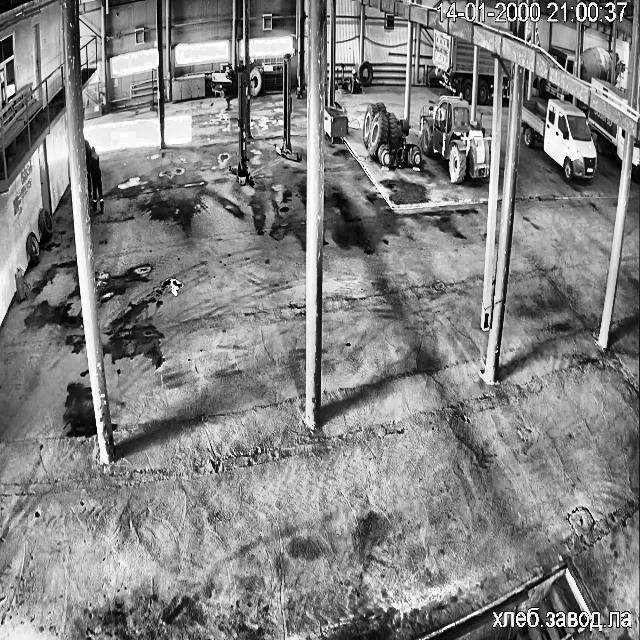class4: (90, 148, 103, 212), (84, 140, 92, 195)
class6: (420, 96, 489, 181), (363, 102, 420, 165)
class7: (521, 100, 596, 180), (432, 28, 473, 100), (588, 108, 624, 158), (580, 46, 610, 82), (477, 48, 494, 102), (536, 77, 572, 100), (592, 80, 628, 102), (549, 45, 575, 73), (632, 140, 640, 178), (499, 76, 508, 97), (504, 60, 510, 74), (616, 57, 620, 76)
truck: (229, 66, 252, 185), (275, 55, 300, 161)
